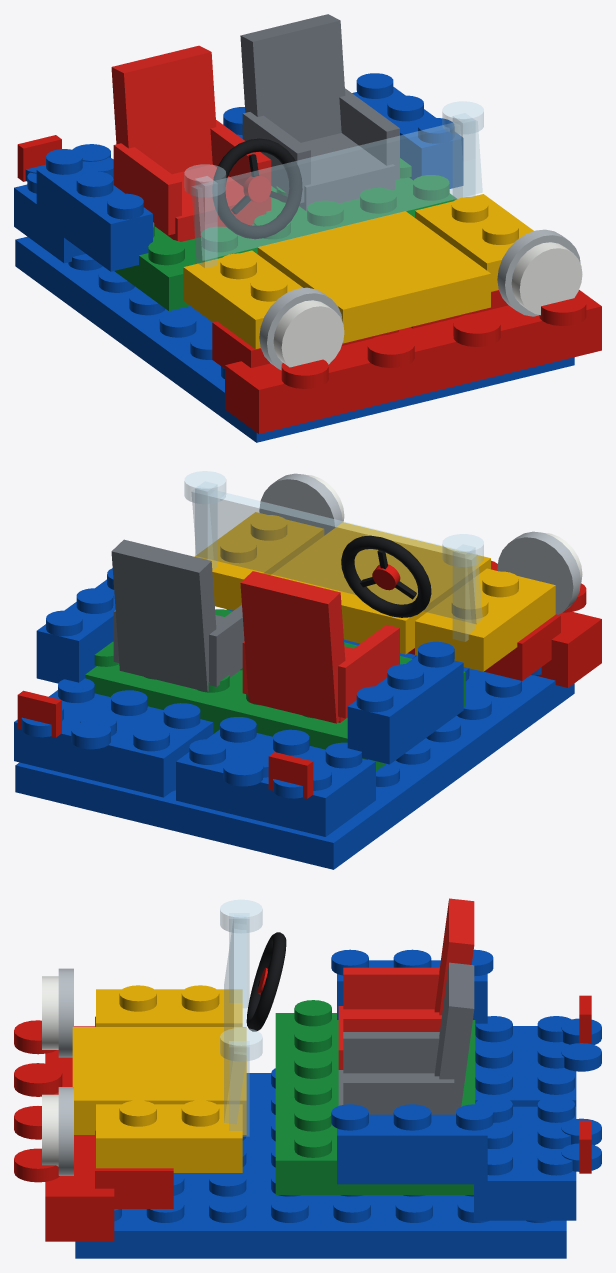
Rendered from A039-11-brick-original-materials-taken-actor-runtime-v2.glb.
3 views of the same model, one above another, from view 1: azimuth 30°, elevation 25°; view 2: azimuth 150°, elevation 25°; view 3: azimuth 270°, elevation 25° (orthographic).
Visible parts, largest first — view 1: LP26_Body_Part_01; view 2: LP26_Body_Part_01; view 3: LP26_Body_Part_01.
Part boxes in pixels (box(x1,y1,x2,y2)): LP26_Body_Part_01: box(14, 14, 601, 442); LP26_Body_Part_01: box(14, 471, 601, 869); LP26_Body_Part_01: box(14, 898, 601, 1258).
Bounding box in the file's own units: 0.7062 × 0.4261 × 1.
